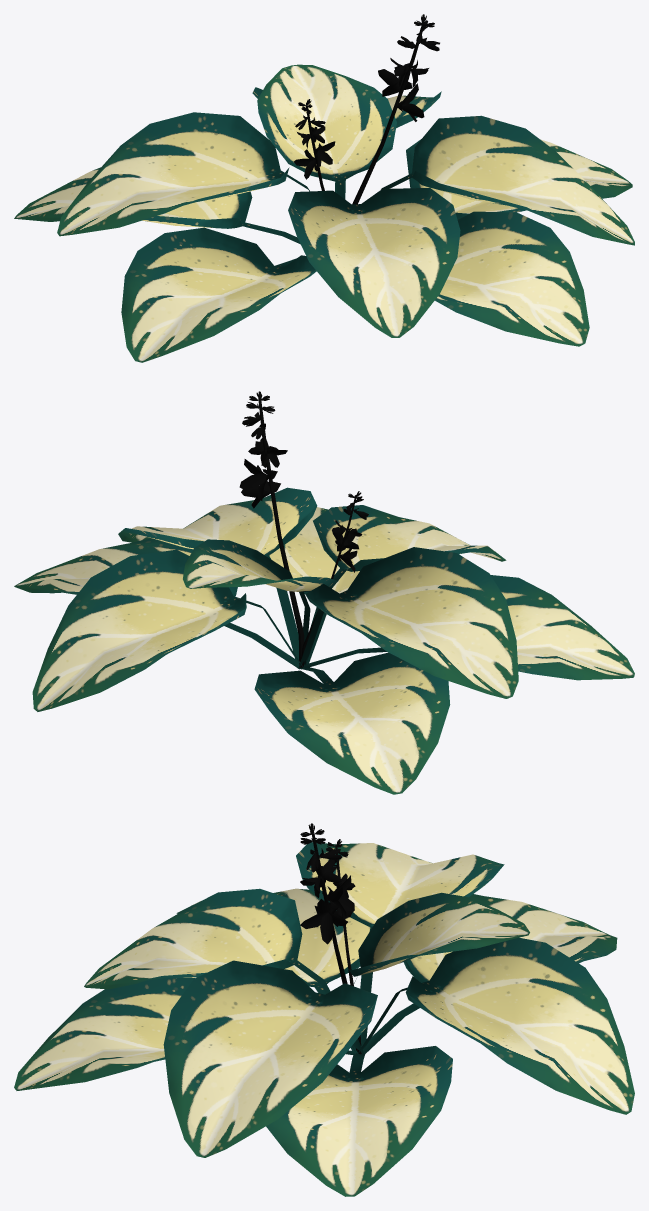
Rendered from Hosta_YF_03.fbx.
3 views of the same model, one above another, from view 1: azimuth 30°, elevation 25°; view 2: azimuth 150°, elevation 25°; view 3: azimuth 270°, elevation 25° (orthographic). The views are drawn at different scales.
Parts seen in each view (by area): view 1: Hosta_Y_03; view 2: Hosta_Y_03; view 3: Hosta_Y_03.
Boxes of the visible parts, x1,y1,x2,y2 form: Hosta_Y_03: [14, 14, 634, 362]; Hosta_Y_03: [14, 391, 634, 794]; Hosta_Y_03: [14, 823, 634, 1196].
Bounding box in the file's own units: 114 × 47.54 × 102.
